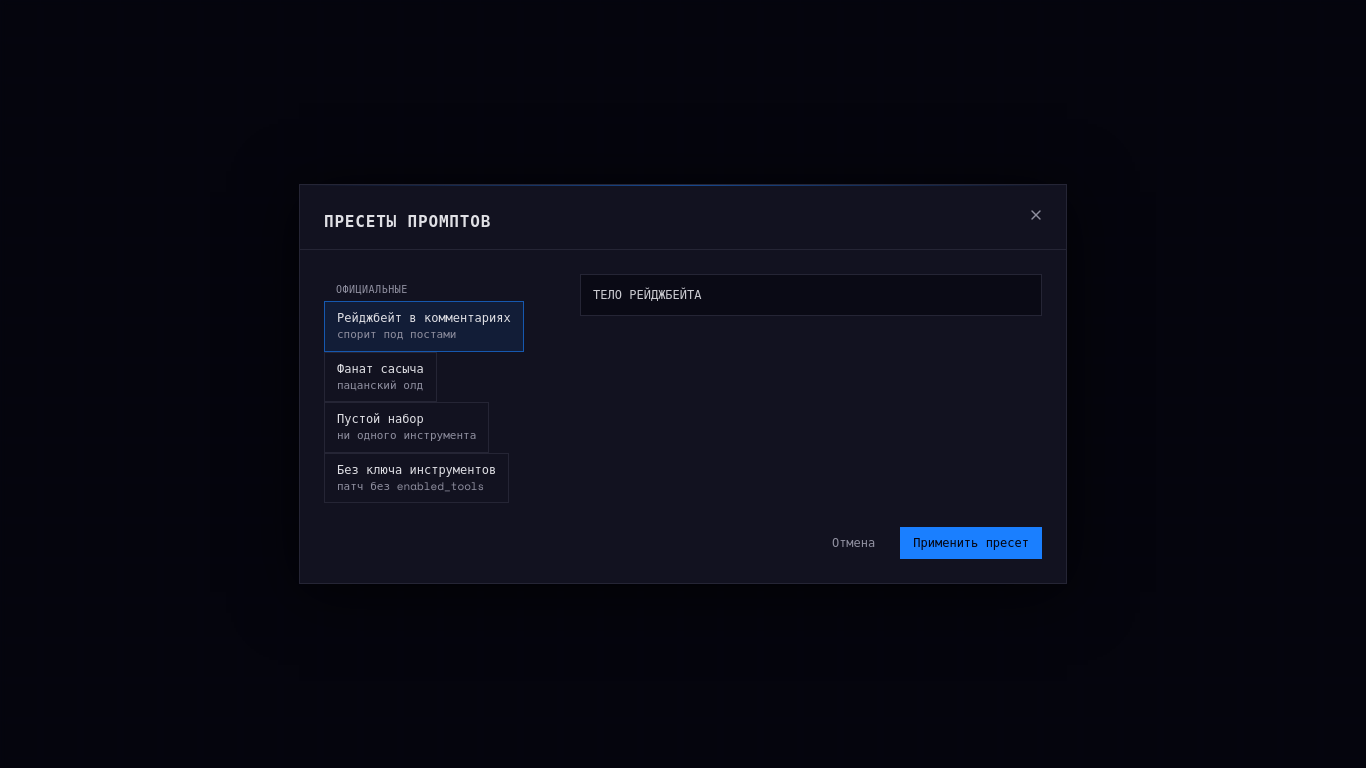
Scenario: PresetPickerDialog › выбор другого пресета показывает его тело и настройки инструментов
The width and height of the screenshot is (1366, 768).
Click the option "Фанат сасыча пацанский олд": (380, 377) [324,352,437,402]
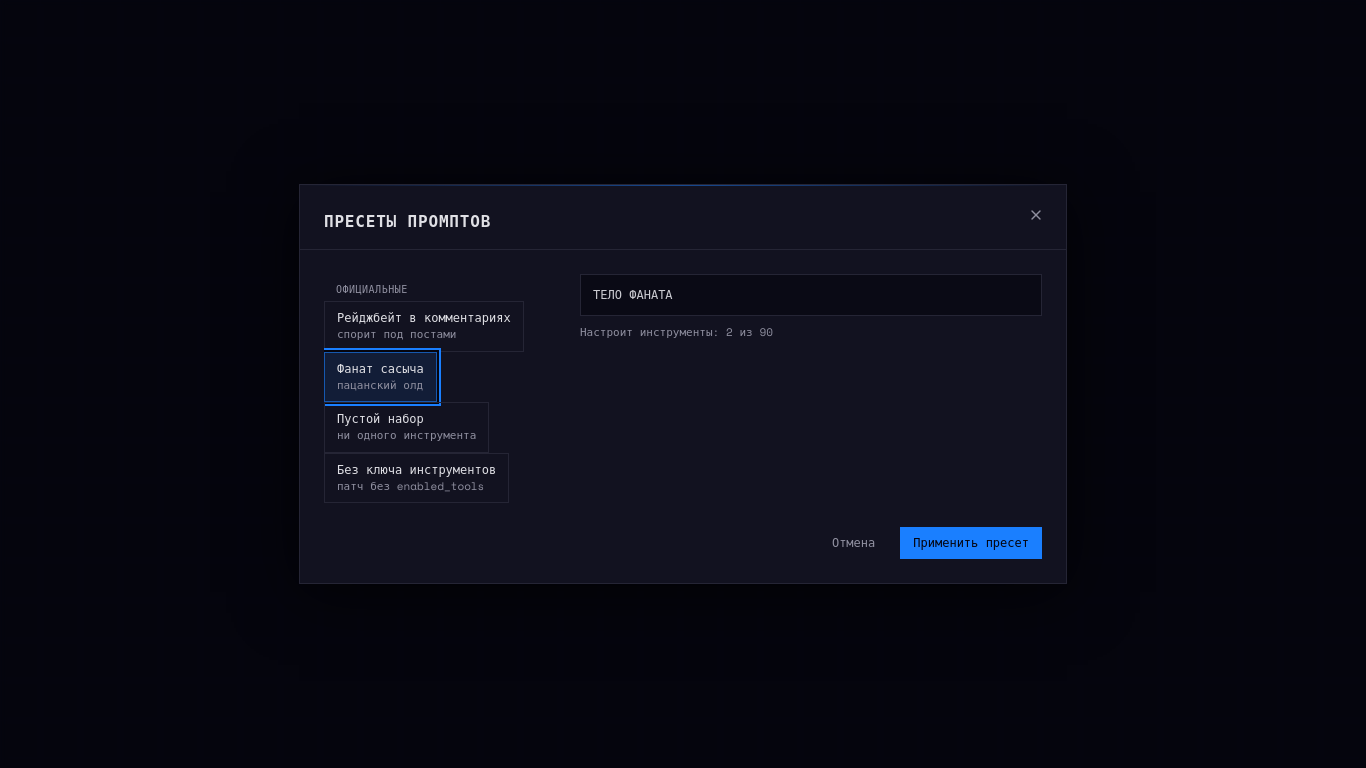
Now the text with test id "preset-body" reads "ТЕЛО ФАНАТА", box [593,286,673,303]
